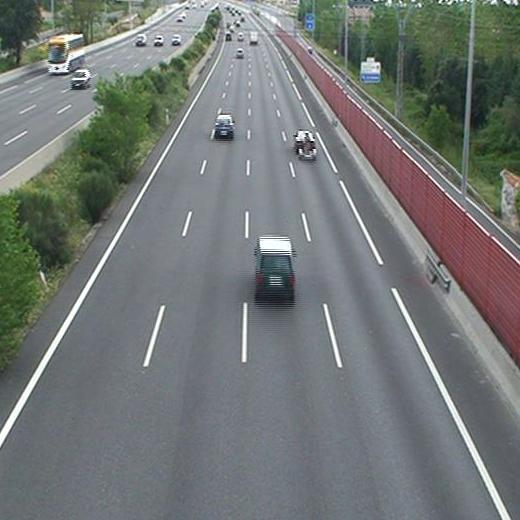car: (256, 239, 294, 292), (297, 132, 314, 157), (215, 116, 233, 137), (236, 48, 243, 56)
